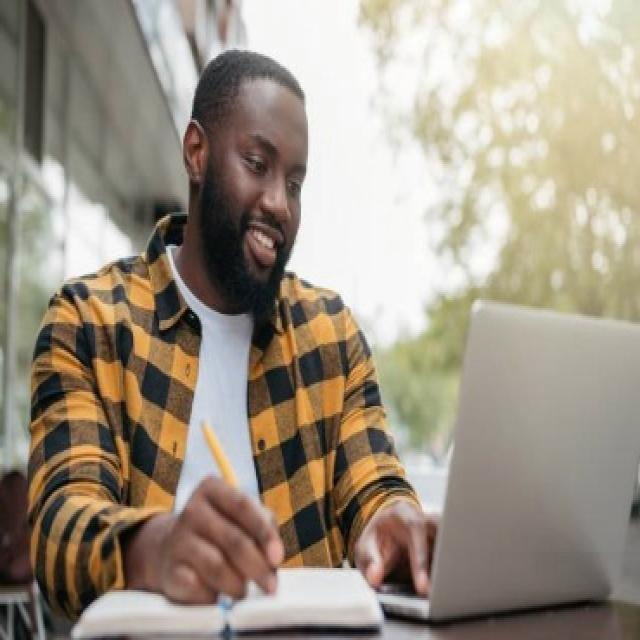adult: (31, 43, 433, 611)
